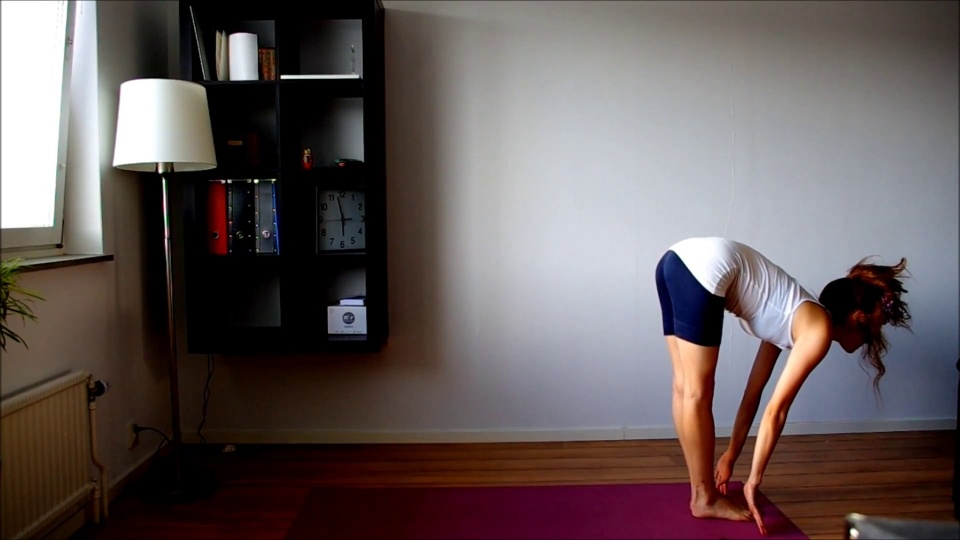person: (647, 232, 884, 522)
